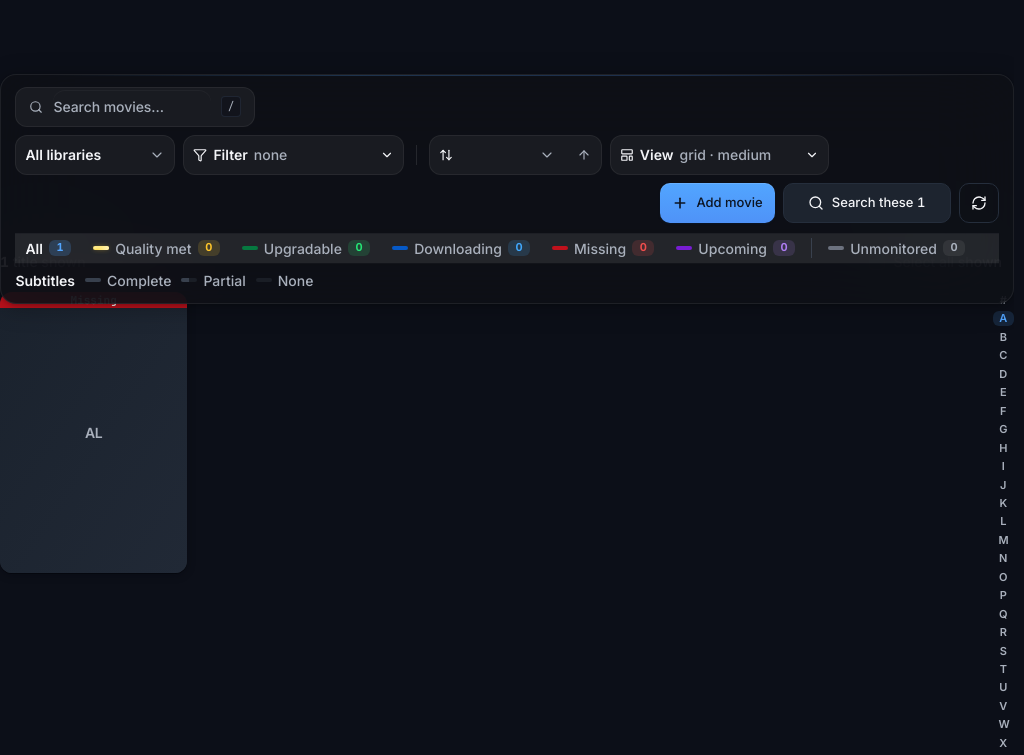
it: loading the saved filters › asks for this shelf's own variant, and a list that cannot be read leaves the saved list empty instead of breaking the drawer
Expected: the button "Search these 1" is shown, [783,183,951,223]
Step 1. Click the text "Filter" → (231, 155), box [213,144,248,165]
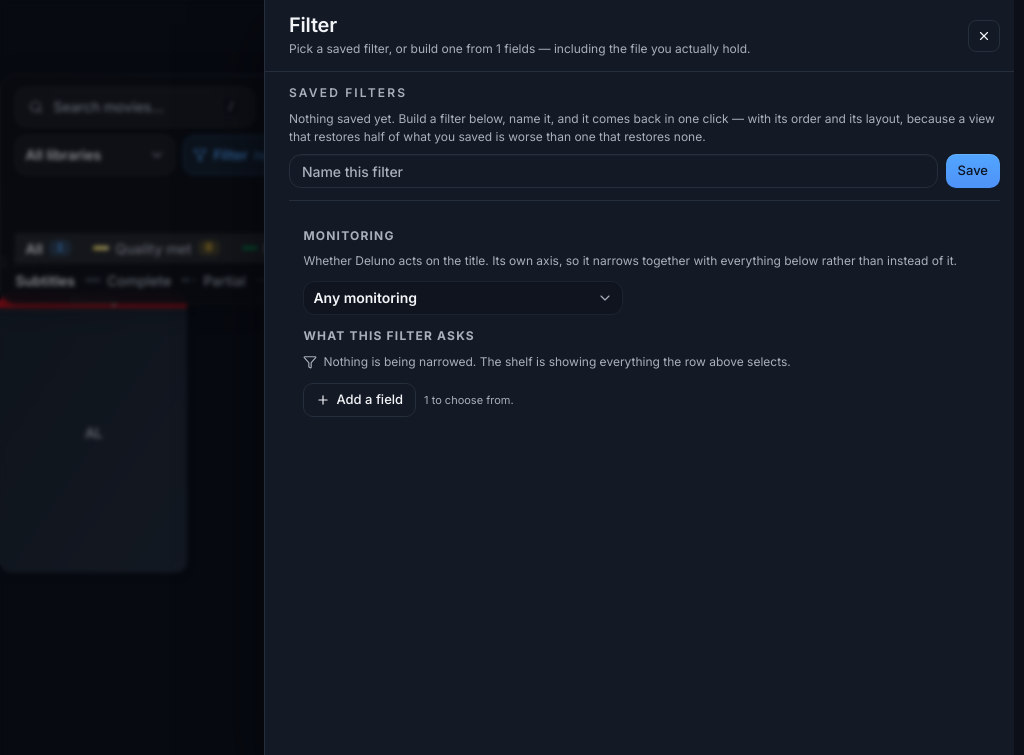
Expected: the field with placeholder "Name this filter" is shown, [289,154,938,188]
Expected: the button "Add a field" is shown, [303,383,416,417]
